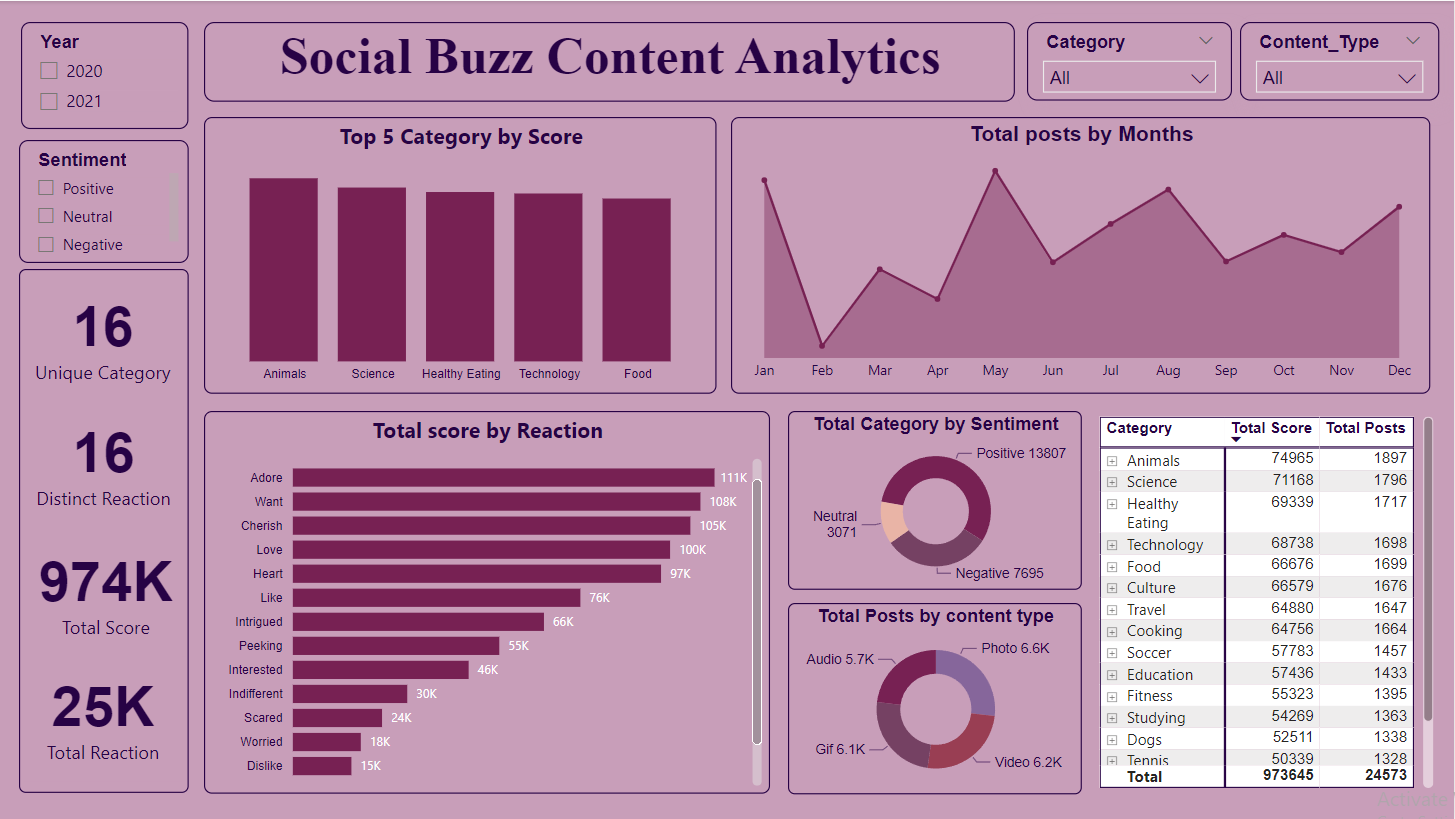

The page's visual inventory and layout, read from the dashboard file:
{"tool":"powerbi","page":{"name":"Social Buzz dashboard","canvas":[1280,720],"ordinal":0},"visuals":[{"type":"textbox","title":"Social Buzz Content Analytics","box":[181.4,18.1,711.6,69.5],"z":0},{"type":"textbox","box":[19.4,235.5,149.1,460.5],"z":1000},{"type":"card","title":"Unique Category","fields":{"Values":["Count(Reactions (final).Category)"]},"box":[24.7,242.6,136.7,101.4],"z":2000},{"type":"card","title":"Unique Category","fields":{"Values":["Count(Reactions (final).Reaction)"]},"box":[23.7,355.6,139.6,94.8],"z":3000},{"type":"card","title":"Unique Category","fields":{"Values":["Sum(Reactions (final).Score)"]},"box":[26.3,458.3,138.7,116.8],"z":4000},{"type":"slicer","fields":{"Values":["Reactions (final).Category"]},"box":[904.2,18.5,180,68.8],"z":5000},{"type":"slicer","fields":{"Values":["Reactions (final).Content_Type"]},"box":[1091.2,18.5,174.7,68.8],"z":6000},{"type":"columnChart","title":"Top 5 Category by Score","fields":{"Category":["Reactions (final).Category"],"Y":["Sum(Reactions (final).Score)"]},"box":[181.7,101.4,449.9,242.6],"z":7000},{"type":"slicer","fields":{"Values":["Reactions (final).Sentiment"]},"box":[19.4,121.7,149.1,107.6],"z":8000},{"type":"barChart","title":"Total score by Reaction","fields":{"Category":["Reactions (final).Reaction"],"Y":["Sum(Reactions (final).Score)"]},"box":[181.7,359.9,496.7,336.1],"z":9000},{"type":"donutChart","fields":{"Y":["CountNonNull(Reactions (final).Category)"],"Category":["Reactions (final).Sentiment"]},"box":[694.3,359.9,257.6,157],"z":10000},{"type":"areaChart","title":"Total posts by Months","fields":{"Y":["CountNonNull(Reactions (final).Content_Type)"],"Category":["Reactions (final).Month","Reactions (final).Date.Variation.Date Hierarchy.Quarter"]},"box":[644.9,101.4,614,242.6],"z":11000},{"type":"donutChart","title":"Total Posts by content type","fields":{"Y":["CountNonNull(Reactions (final).Score)"],"Category":["Reactions (final).Content_Type"]},"box":[694.3,528.4,257.6,167.6],"z":12000},{"type":"pivotTable","fields":{"Rows":["Reactions (final).Category","Reactions (final).Content_Type"],"Values":["Sum(Reactions (final).Score)","CountNonNull(Reactions (final).Content_Type)"]},"box":[963.2,360,302.9,336.3],"z":13000},{"type":"slicer","fields":{"Values":["Reactions (final).Year"]},"box":[21.2,18.5,147.3,93.5],"z":14000},{"type":"card","title":"Unique Category","fields":{"Values":["CountNonNull(Reactions (final).Reaction)"]},"box":[23.7,568.1,138.7,116.8],"z":15000}]}

Visuals, with their boxes in screenshot pixels (x1, y1, x2, y2), scaled from the page's 1280x720 canvas onto the 1455x819 screenshot:
"Social Buzz Content Analytics" textbox: crop(206, 21, 1015, 100)
textbox: crop(22, 268, 192, 792)
"Unique Category" card: crop(28, 276, 183, 391)
"Unique Category" card: crop(27, 404, 186, 512)
"Unique Category" card: crop(30, 521, 188, 654)
slicer - Reactions (final).Category: crop(1028, 21, 1232, 99)
slicer - Reactions (final).Content_Type: crop(1240, 21, 1439, 99)
"Top 5 Category by Score" columnChart: crop(207, 115, 718, 391)
slicer - Reactions (final).Sentiment: crop(22, 138, 192, 261)
"Total score by Reaction" barChart: crop(207, 409, 771, 792)
donutChart - CountNonNull(Reactions (final).Category) x Reactions (final).Sentiment: crop(789, 409, 1082, 588)
"Total posts by Months" areaChart: crop(733, 115, 1431, 391)
"Total Posts by content type" donutChart: crop(789, 601, 1082, 792)
pivotTable - Reactions (final).Category x Reactions (final).Content_Type: crop(1095, 410, 1439, 792)
slicer - Reactions (final).Year: crop(24, 21, 192, 127)
"Unique Category" card: crop(27, 646, 185, 779)
